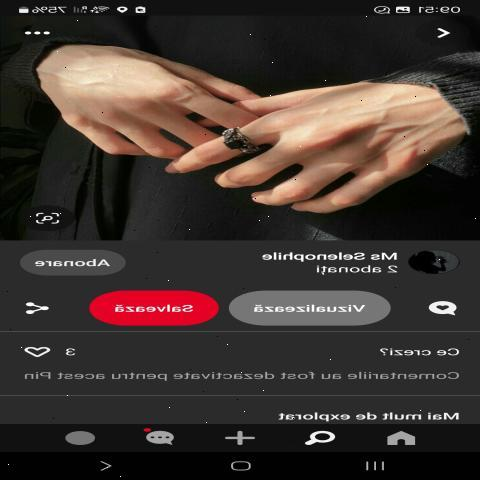Hands: (152, 39, 472, 243), (16, 21, 276, 169)
